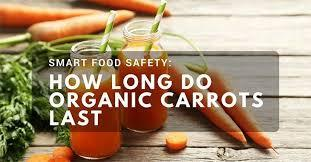Organic: (2, 1, 311, 162)
